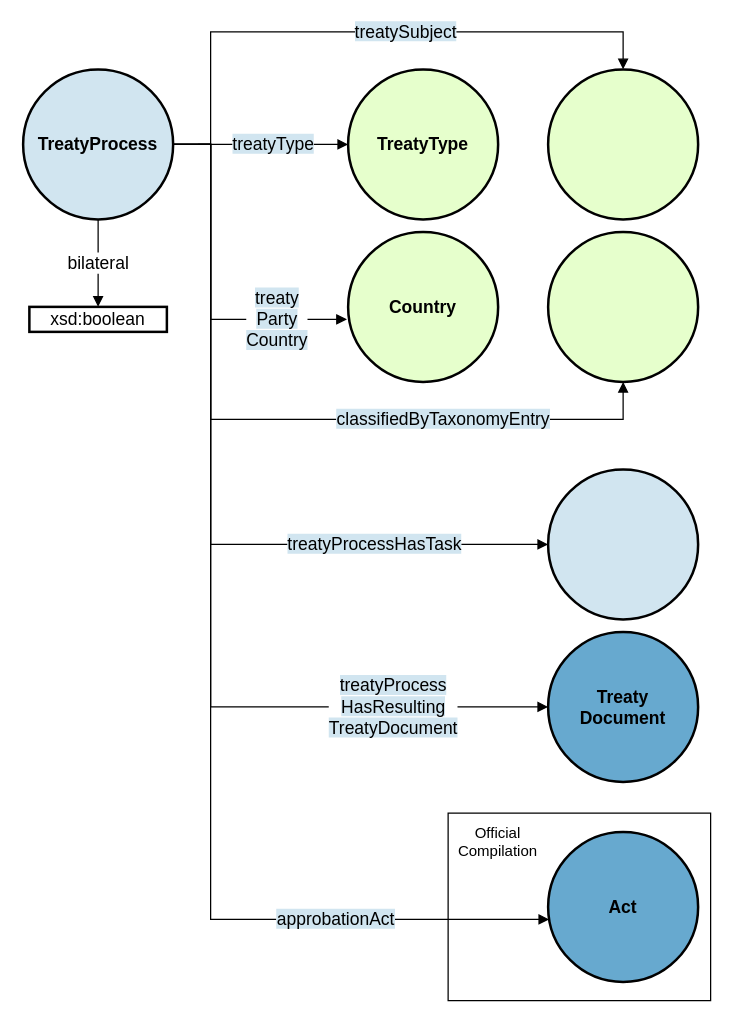
Image size: 733x1023. Some labels were removed from this diagram. The shapes that lost their labels are listed below. From the top down, each one's centre as x and y in pixels, then its label:
At pixel 622 144: "Treaty Subject Theme".
At pixel 622 306: "Legal Taxonomy".
At pixel 622 544: "TaskForTreaty".
